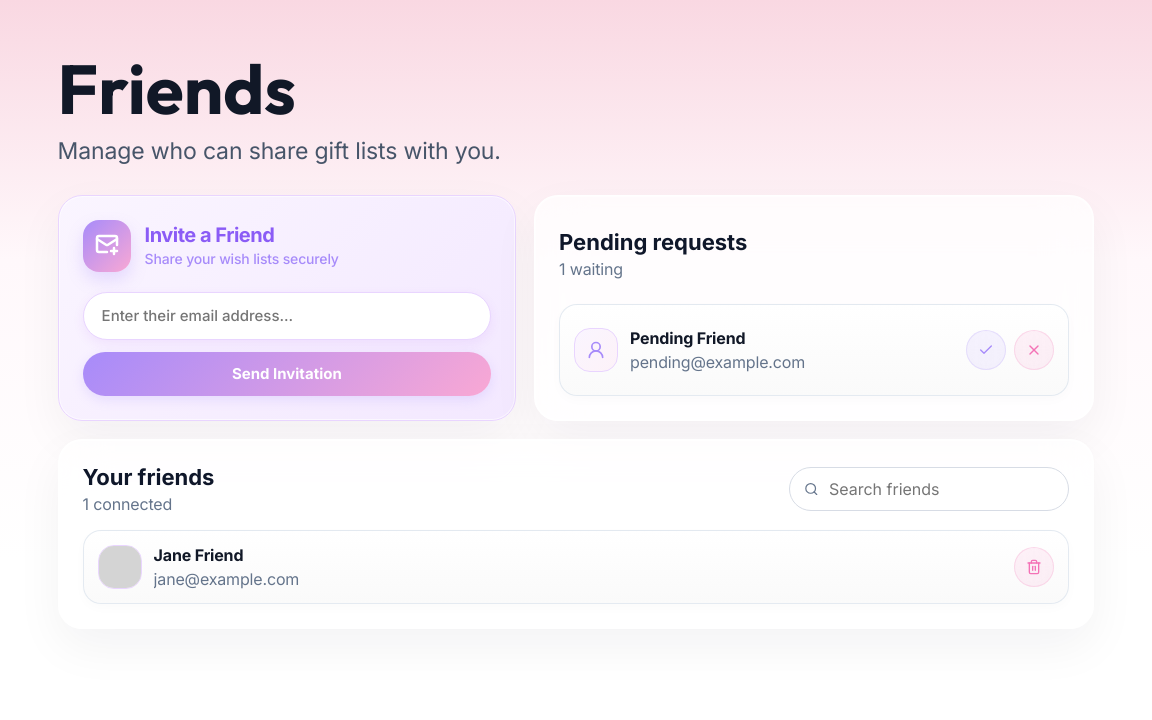
Test: Friends › sends friend request by email
Expected: the heading "Jane Friend" is shown, x1=154 y1=545 x2=243 y2=565
Type "new@example.com" into the field named "friend email".
click(287, 316); type("new@example.com")  # box x1=100 y1=305 x2=474 y2=326
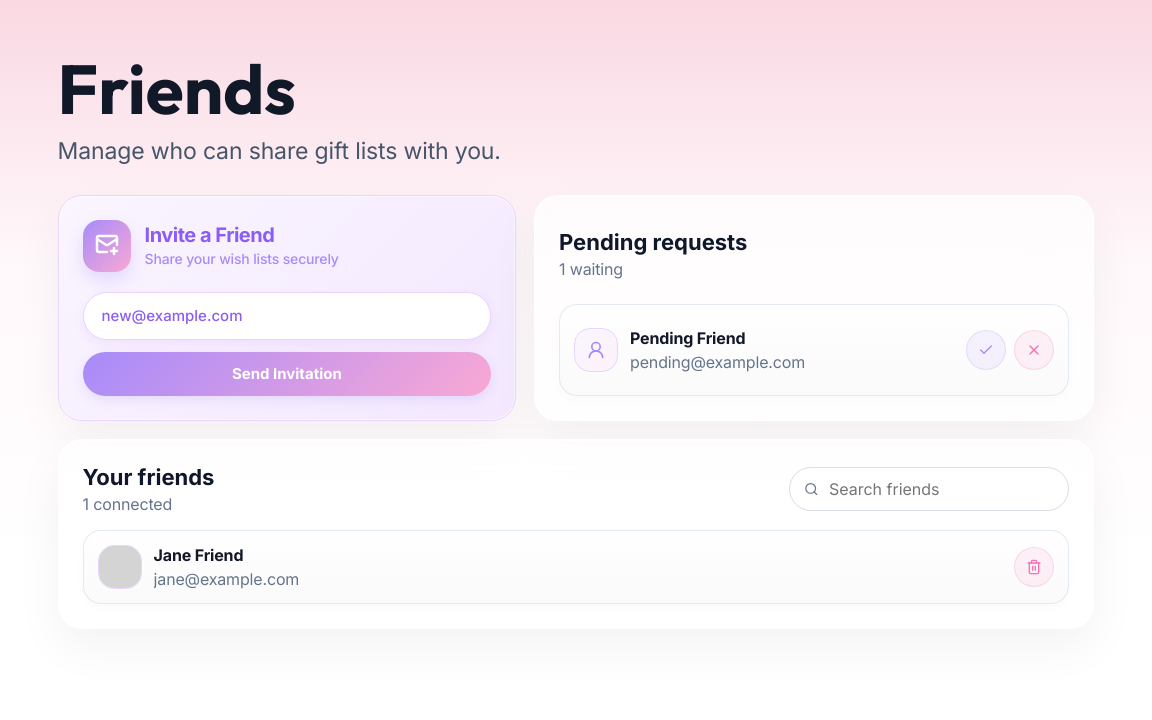
Click the button "Send Invitation".
click(287, 374)  # box x1=83 y1=352 x2=491 y2=396
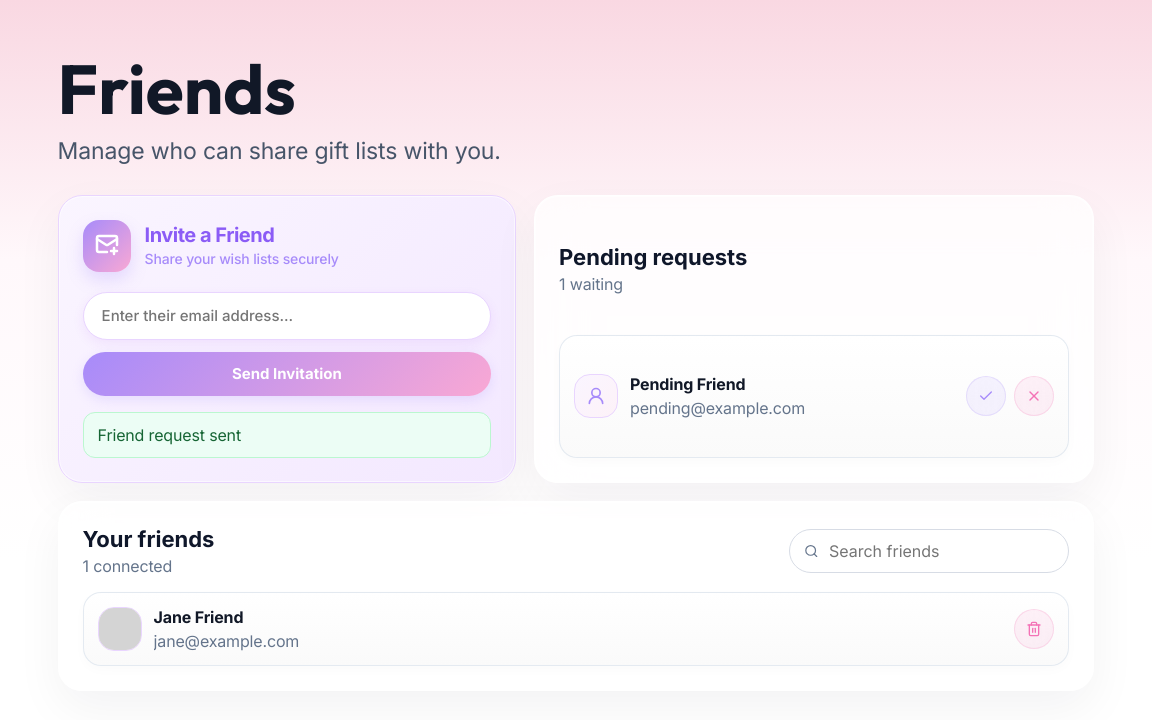
Result: the text "Friend request sent" is shown at x1=83 y1=412 x2=491 y2=458
